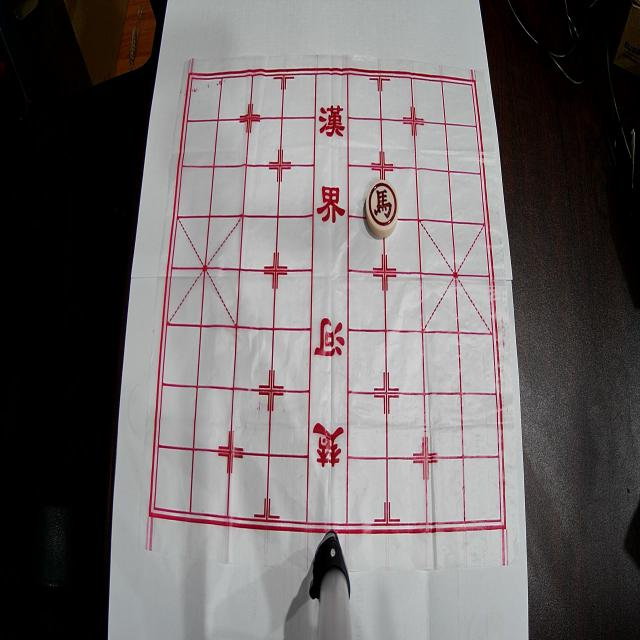red-horse: (366, 180, 399, 238)
